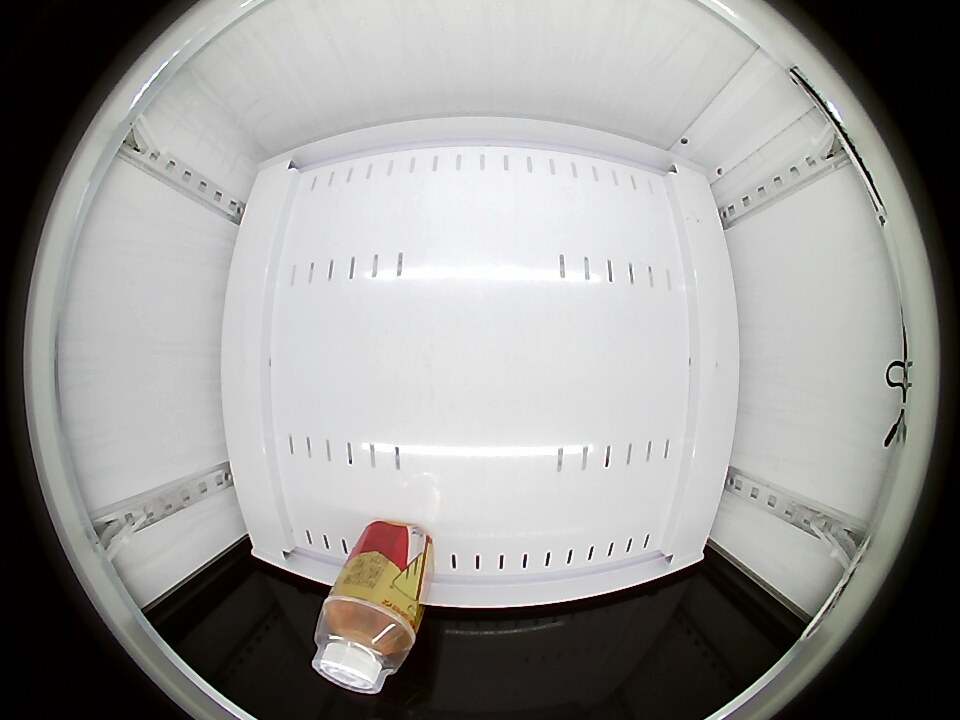dongpeng-b: (312, 589, 419, 694)
